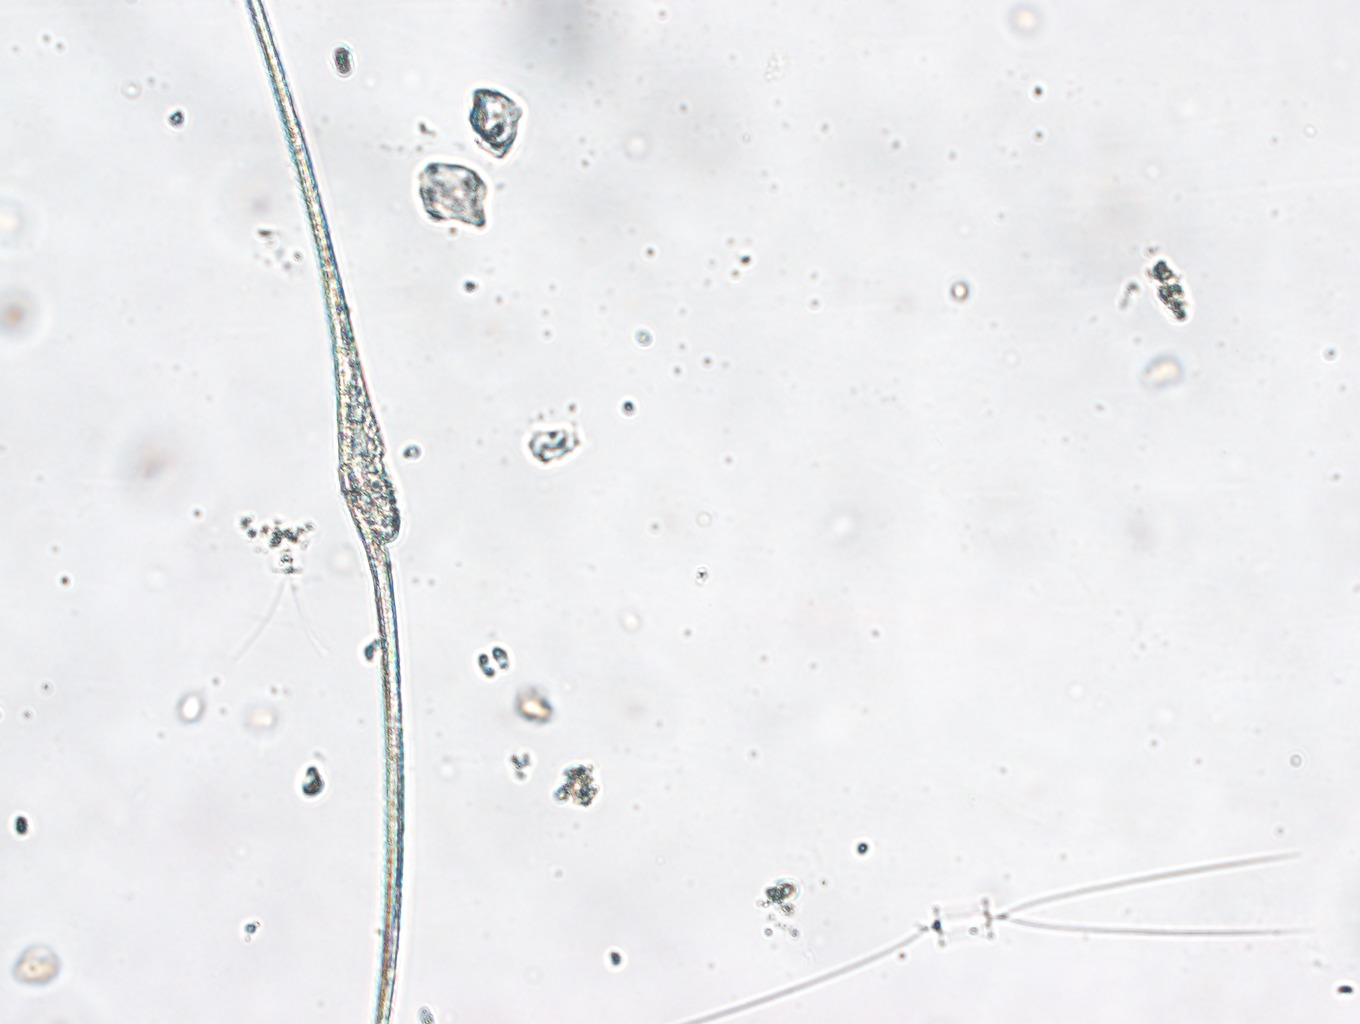ceratium fusus: (237, 1, 416, 1024)
chaetoceros: (683, 847, 1319, 1024)
